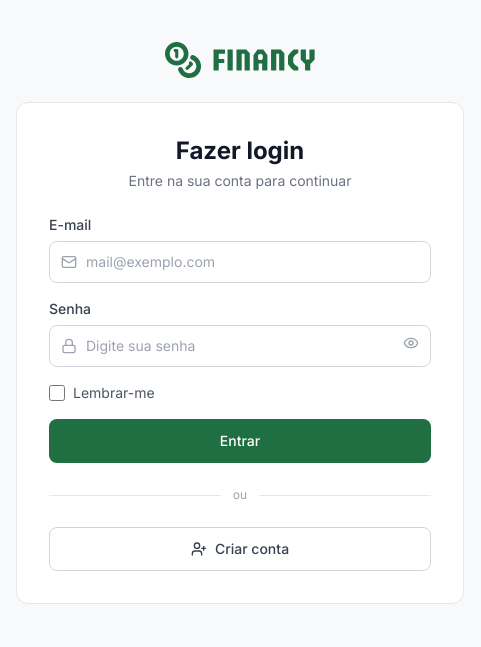
Scenario: LoginPage › renders INVALID_CREDENTIALS as a form-level error
Type "ana@exemplo.com" into the field labelled "E-mail" at (240, 262), box top-left (49, 241), bottom-right (431, 283)
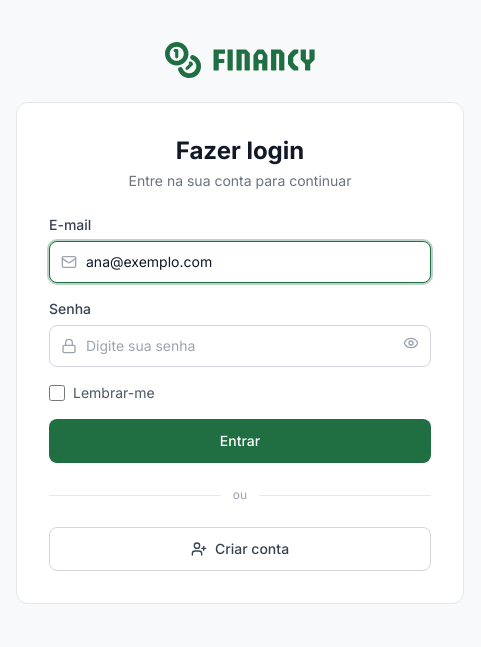
Type "uma-senha-boa" into the password field labelled "Senha" at (240, 346), box top-left (49, 325), bottom-right (431, 367)
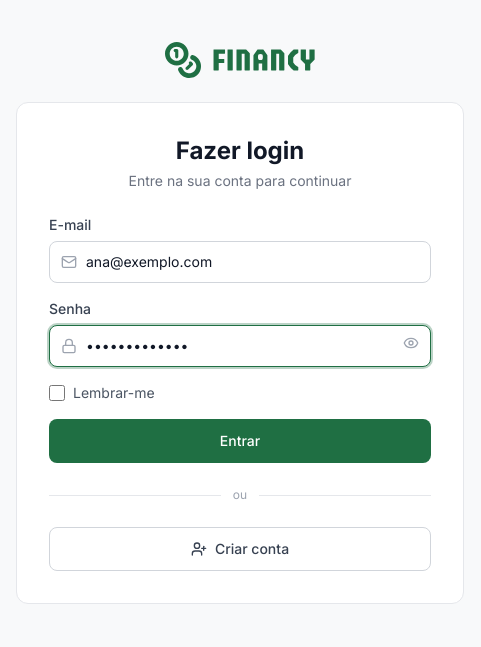
Click the button "Entrar" at (240, 441), box top-left (49, 419), bottom-right (431, 463)
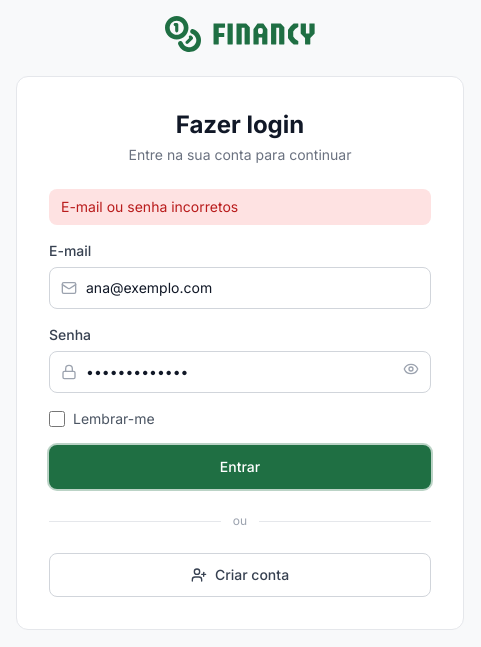
Expected: the heading "Fazer login" is shown, top-left (176, 110), bottom-right (304, 139)
Now the message reads "E-mail ou senha incorretos", box top-left (61, 198), bottom-right (238, 215)
